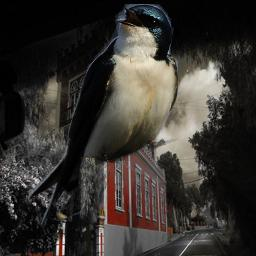Swallow: (28, 4, 178, 228)
